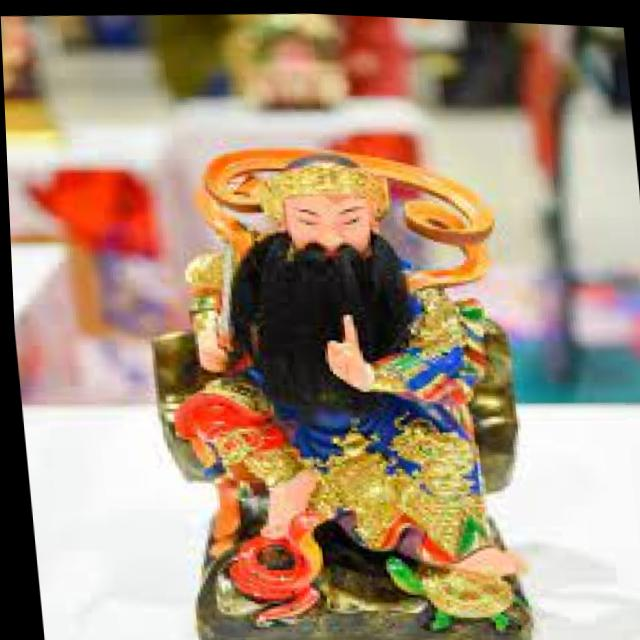Xuan wu: (155, 127, 534, 587)
